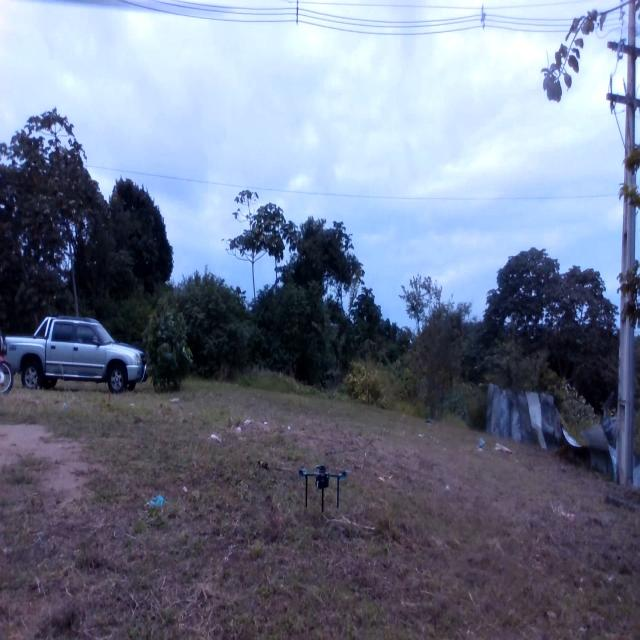-uav-: (288, 458, 356, 520)
